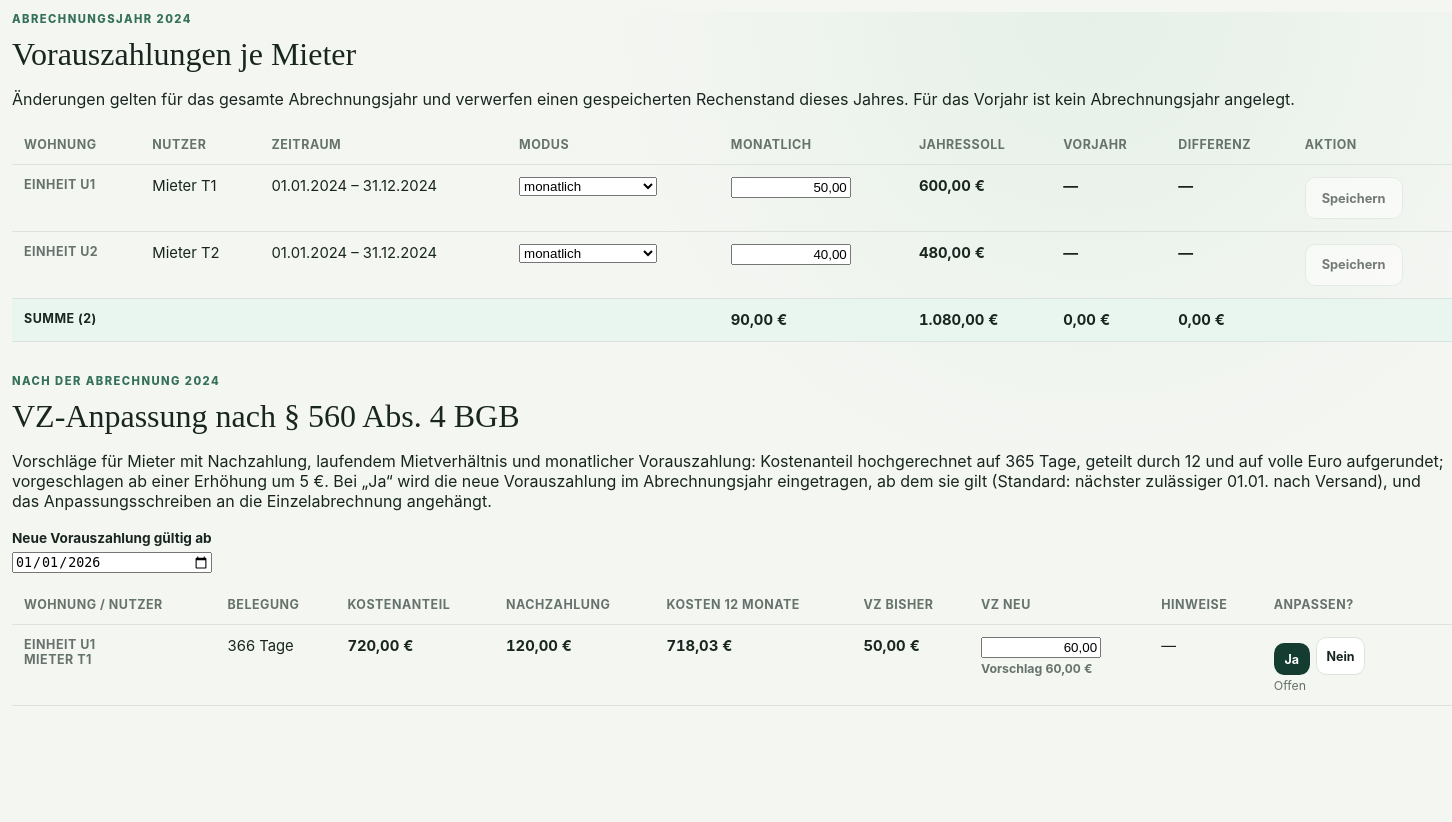
PrepaymentsRoute – VZ-Anpassung › speichert „Ja“ ins Folgejahr und „Nein“ als Entscheidung
Type "2025-01-01" into the date field labelled "Neue Vorauszahlung gültig ab" at coordinates (112, 562), box [12,552,212,573]
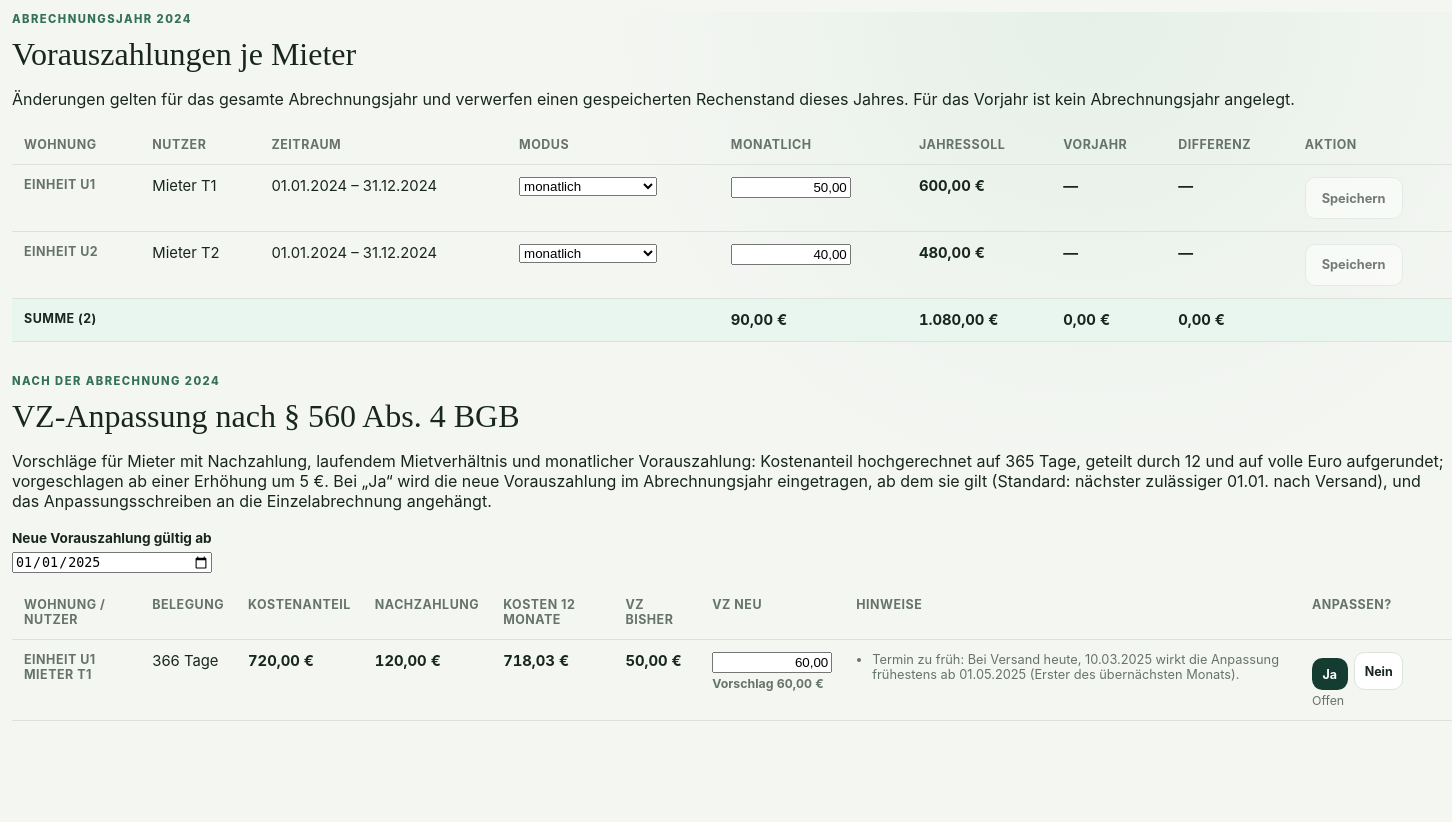
Replace the text in the field named "Neue Vorauszahlung Einheit u1 Mieter T1" with "62" at coordinates (772, 662), box [712,652,832,673]
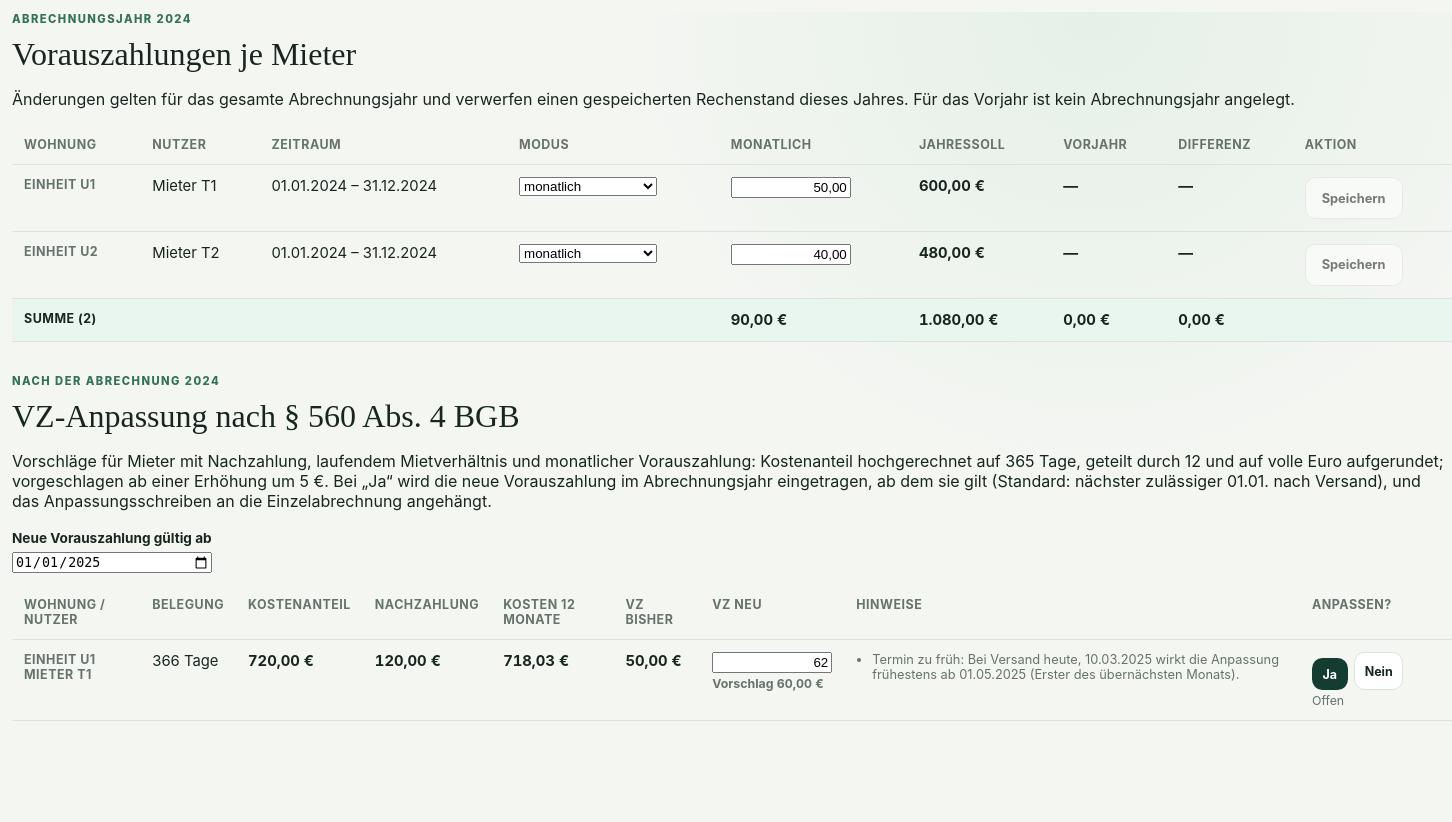
Click the button with aria-label "Anpassung ja Einheit u1 Mieter T1" at coordinates (1330, 674), box [1312,658,1348,690]
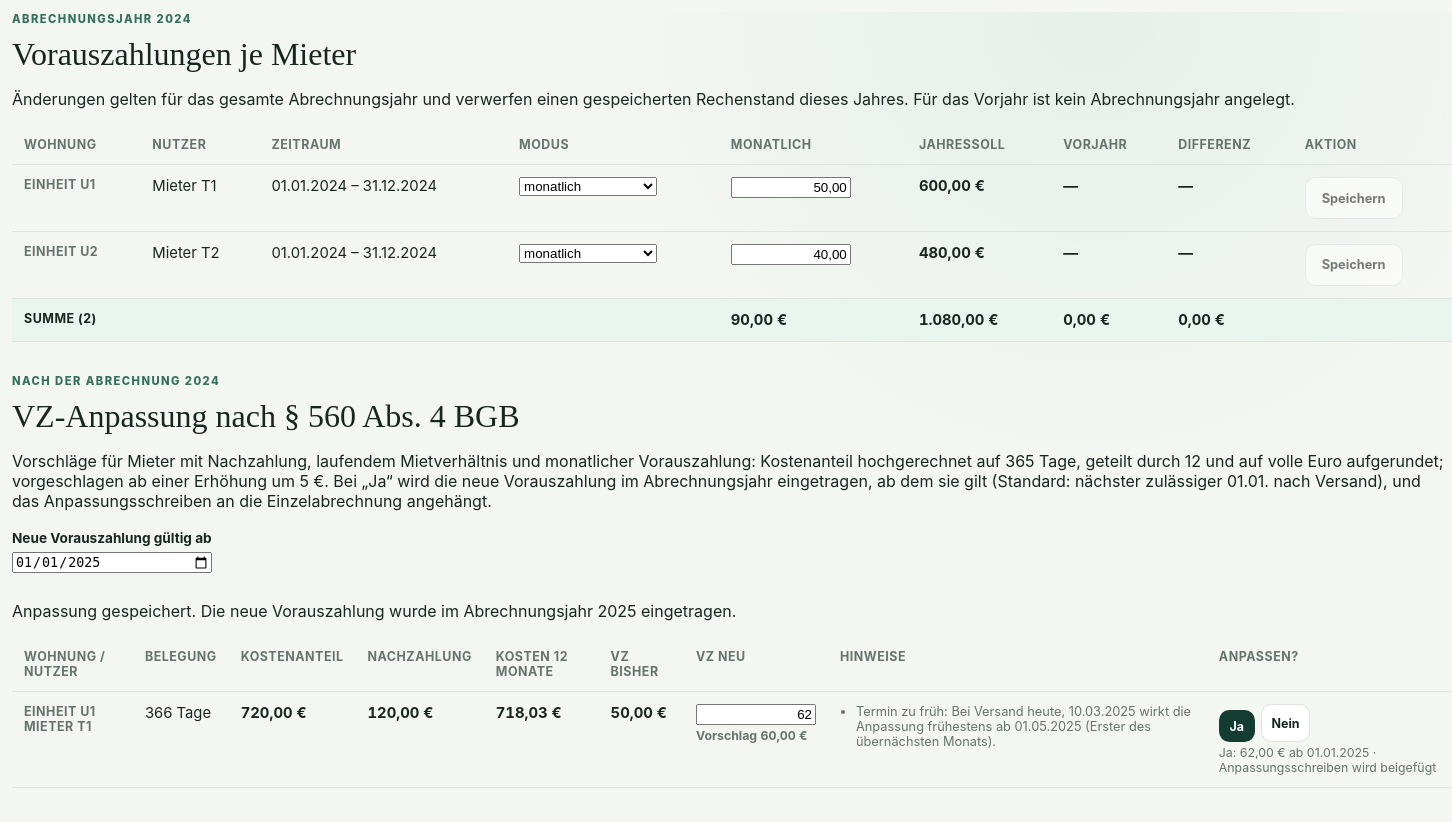
Expected: the message shows "im Abrechnungsjahr 2025 eingetragen", [12,601,736,621]
Expected: the text "Ja: 62,00 € ab 01.01.2025 · Anpassungsschreiben wird beigefügt" is shown, [1219,746,1440,776]
Click the button with aria-label "Anpassung nein Einheit u1 Mieter T1" at coordinates (1286, 723), box [1261,704,1310,742]
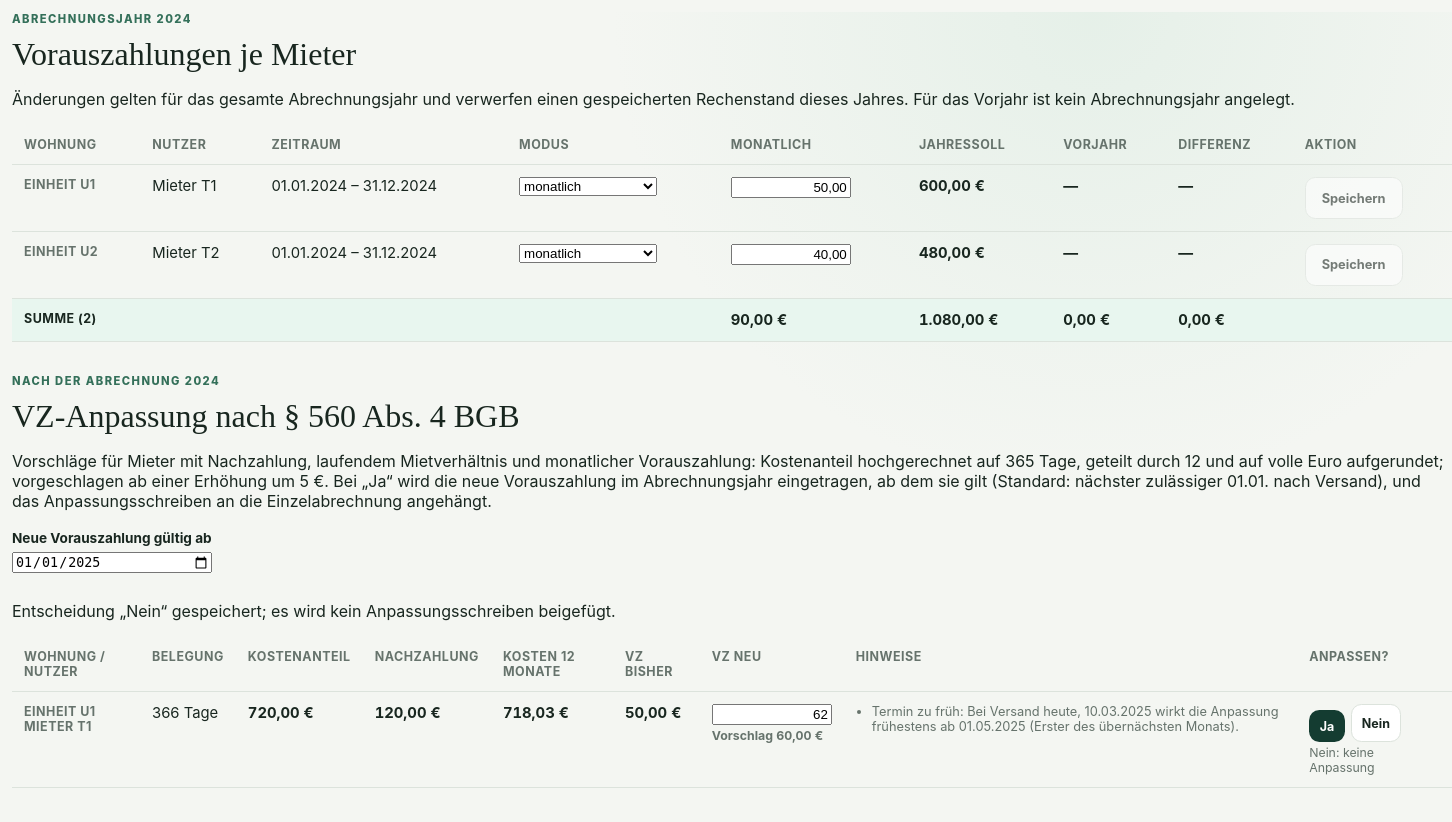
Expected: the message shows "„Nein“ gespeichert", [12,601,616,621]
Expected: the text "Nein: keine Anpassung" is shown, [1309,746,1375,776]
